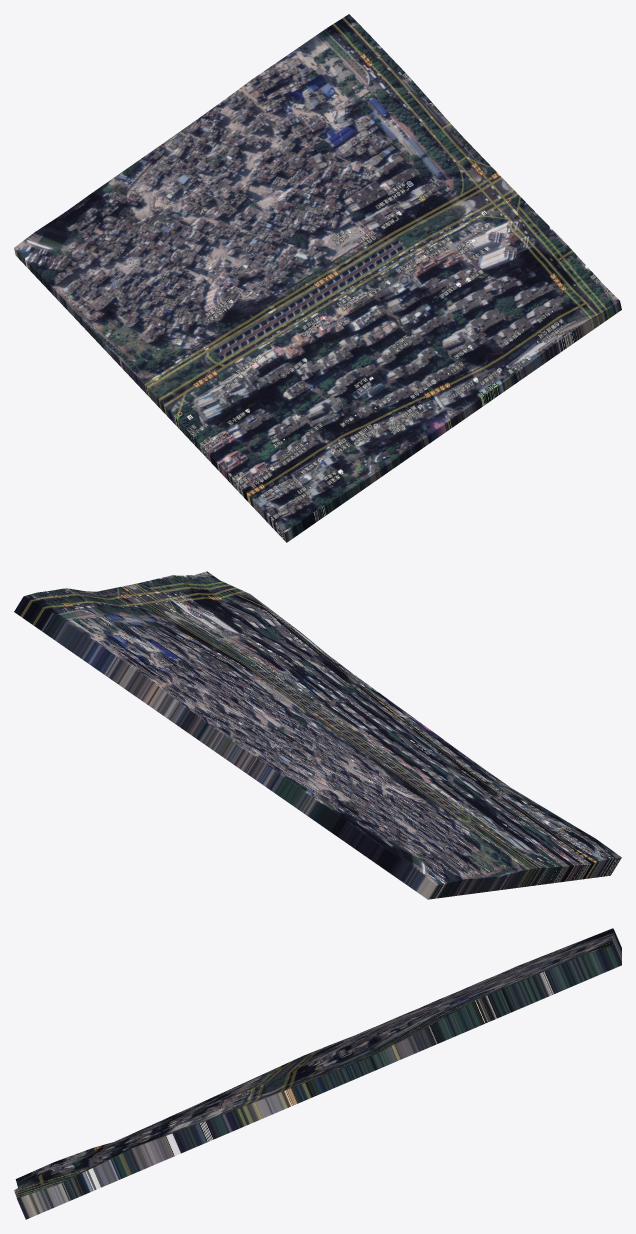
The picture shows the model from 3 angles, top to bottom: view 1: azimuth 30°, elevation 25°; view 2: azimuth 150°, elevation 25°; view 3: azimuth 270°, elevation 25°; orthographic projection. The views are drawn at different scales.
Parts seen in each view (by area): view 1: 0_9_23; view 2: 0_9_23; view 3: 0_9_23.
Boxes of the visible parts, x1,y1,x2,y2 form: 0_9_23: (14,14,621,542); 0_9_23: (14,571,621,899); 0_9_23: (14,928,621,1219).
Size of the model in its own units: 599 by 445 by 553.
Materials: 1 (1 with a texture image).
